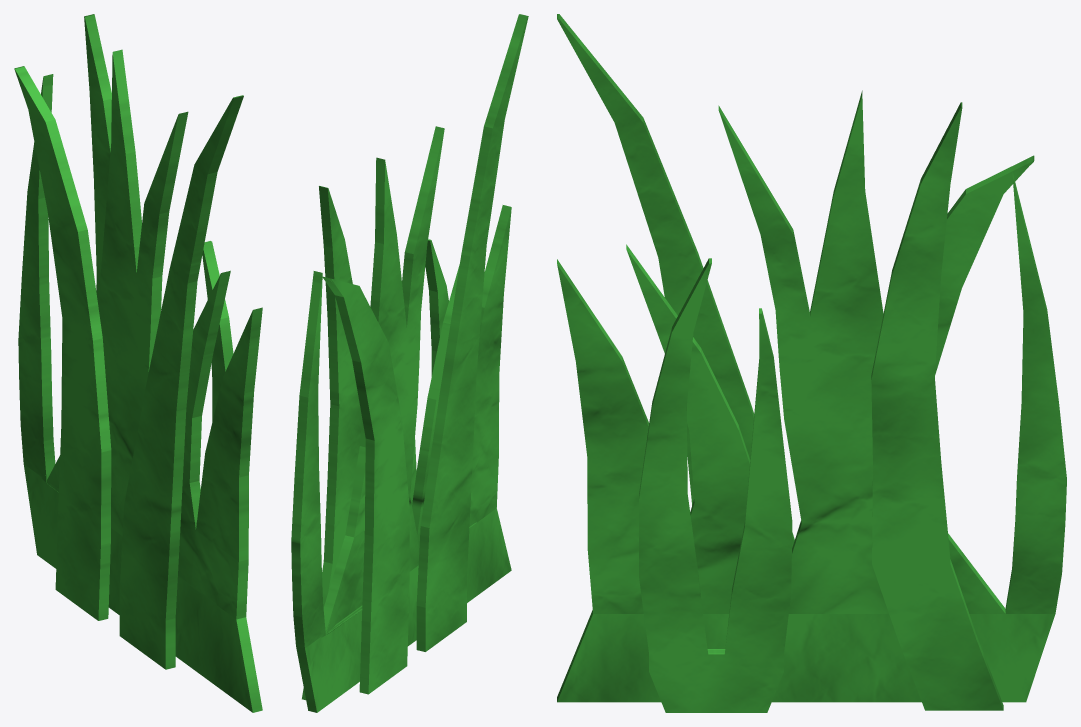
File: herbe1.fbx
The picture shows the model from 3 angles, left to right: view 1: azimuth 30°, elevation 25°; view 2: azimuth 150°, elevation 25°; view 3: azimuth 270°, elevation 25°; orthographic projection. The views are drawn at different scales.
Visible parts, largest first — view 1: Plane.001; view 2: Plane.001; view 3: Plane.001.
Boxes of the visible parts, x1,y1,x2,y2 form: Plane.001: (14, 14, 262, 712); Plane.001: (291, 14, 528, 712); Plane.001: (557, 14, 1066, 712).
Bounding box in the file's own units: 24.42 × 299 × 205.
